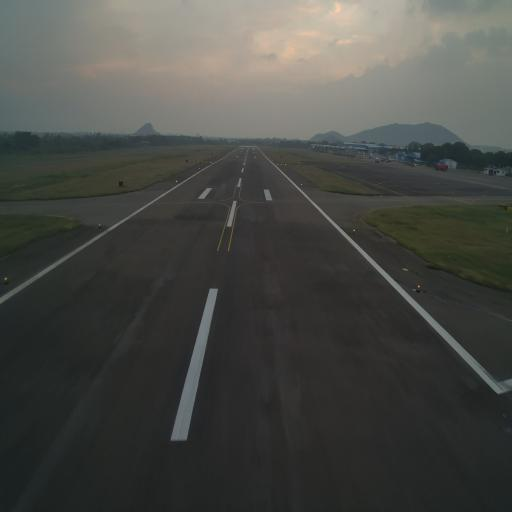on: (2, 272, 10, 285), (413, 282, 422, 292), (350, 226, 358, 234), (97, 220, 102, 230)
